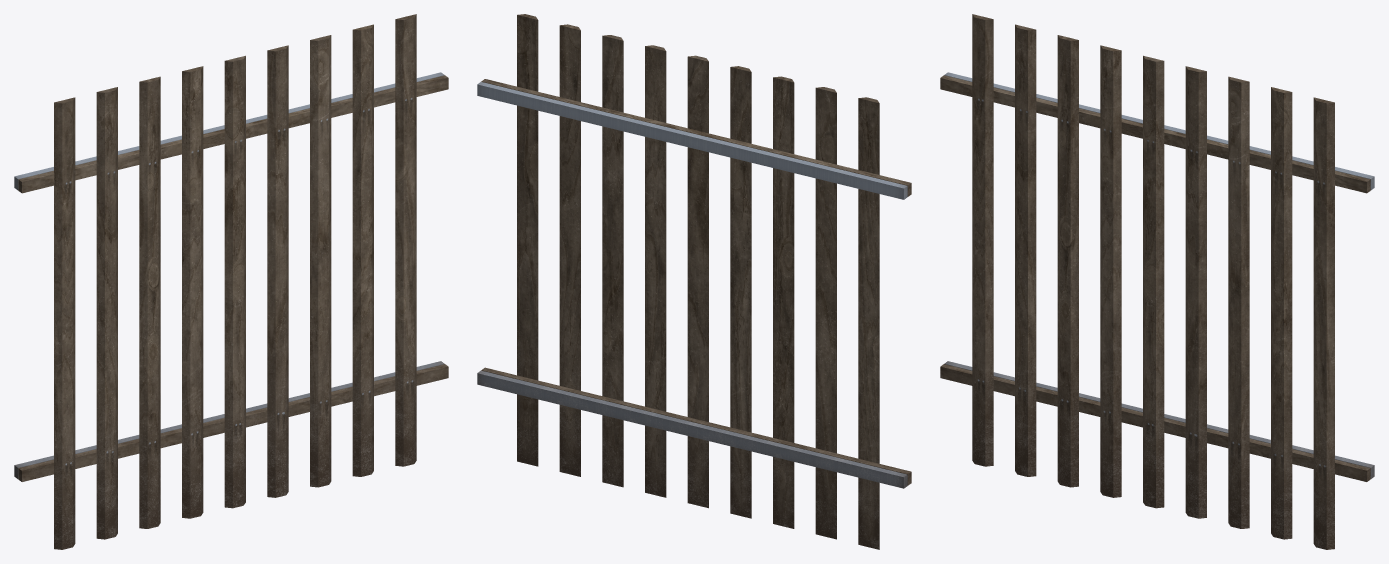
File: Prop_Fence_001_2M.fbx
3 renders of one model, left to right at view 1: azimuth 30°, elevation 25°; view 2: azimuth 150°, elevation 25°; view 3: azimuth 330°, elevation 25°, orthographic.
Parts seen in each view (by area): view 1: Prop_Fence_001_2M; view 2: Prop_Fence_001_2M; view 3: Prop_Fence_001_2M.
Boxes of the visible parts, left/top/right/bottom form: Prop_Fence_001_2M: left=14, top=14, right=448, bottom=549; Prop_Fence_001_2M: left=477, top=14, right=911, bottom=549; Prop_Fence_001_2M: left=940, top=14, right=1374, bottom=549.
Bounding box in the file's own units: 200 × 200 × 8.65.
